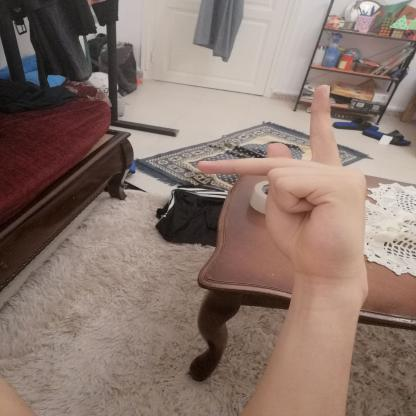DHAA: (181, 74, 382, 291)
